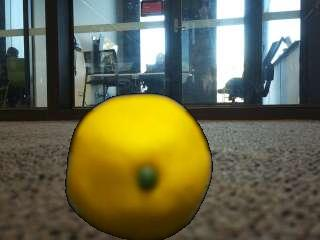lemon: (65, 97, 209, 240)
